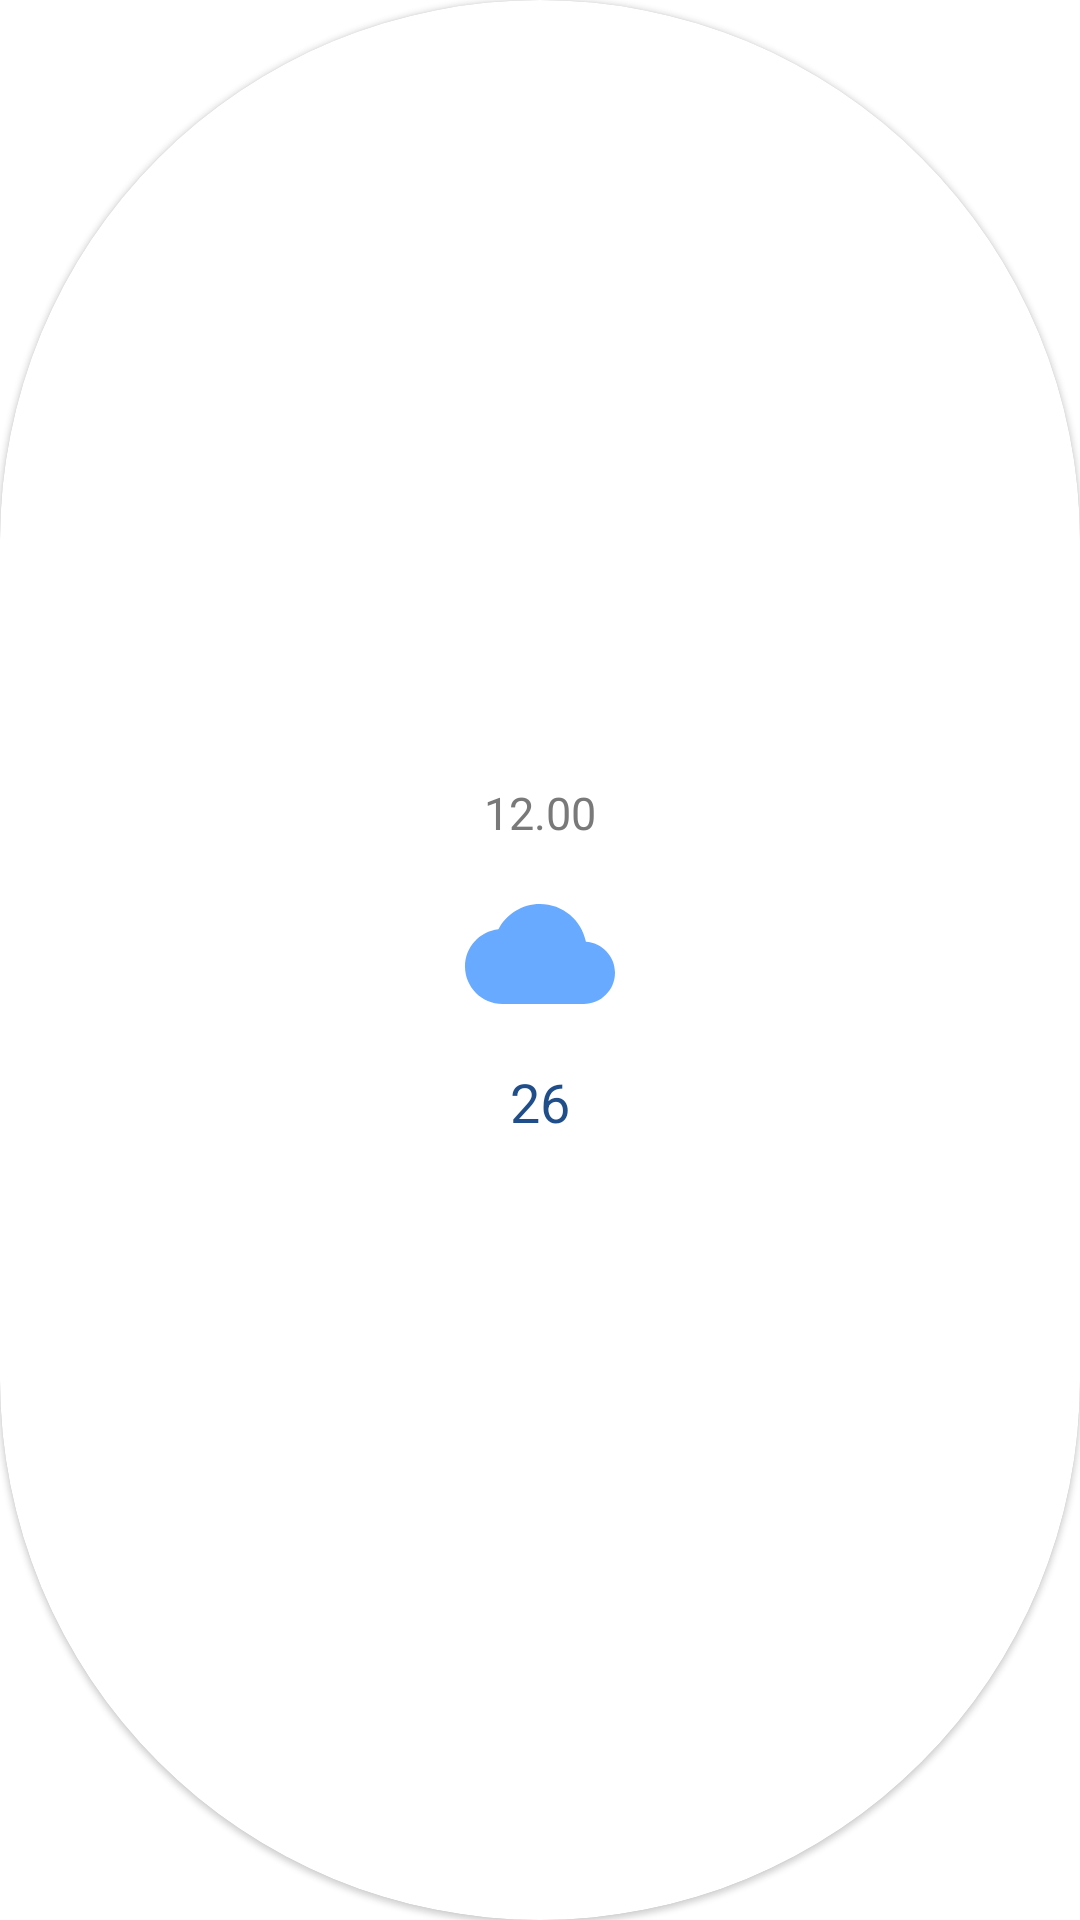

Icon click points for this 1080×1920 phone screenshot, format [x,y]:
cloud: [540,954]
